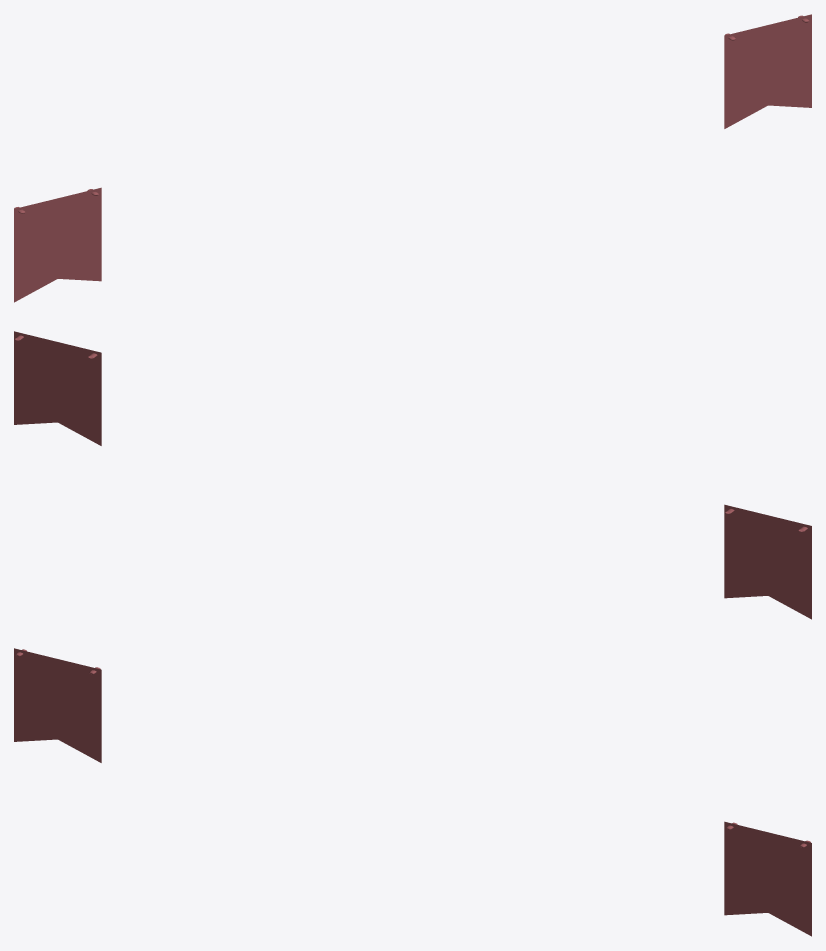
Rendered from checkpoint_cloth_living_v002.glb.
3 renders of one model, top to bottom at view 1: azimuth 30°, elevation 25°; view 2: azimuth 150°, elevation 25°; view 3: azimuth 330°, elevation 25°, orthographic.
Parts seen in each view (by area): view 1: CheckpointCloth_1_Geometry, CheckpointCloth_0_Geometry; view 2: CheckpointCloth_0_Geometry, CheckpointCloth_1_Geometry; view 3: CheckpointCloth_0_Geometry, CheckpointCloth_1_Geometry.
Boxes of the visible parts, bbox=[...] form: CheckpointCloth_1_Geometry: bbox=[724, 14, 811, 128]; CheckpointCloth_0_Geometry: bbox=[14, 187, 101, 302]; CheckpointCloth_0_Geometry: bbox=[724, 504, 811, 619]; CheckpointCloth_1_Geometry: bbox=[14, 331, 101, 445]; CheckpointCloth_0_Geometry: bbox=[14, 648, 101, 762]; CheckpointCloth_1_Geometry: bbox=[724, 821, 811, 936].
Bounding box in the file's own units: 8.2 × 0.92 × 0.12.
